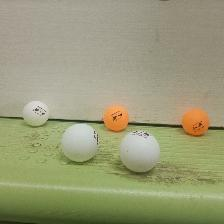WhiteBall: (119, 129, 160, 172), (61, 123, 97, 162), (21, 100, 48, 125)
YellowBall: (181, 108, 208, 135), (102, 104, 128, 130)
